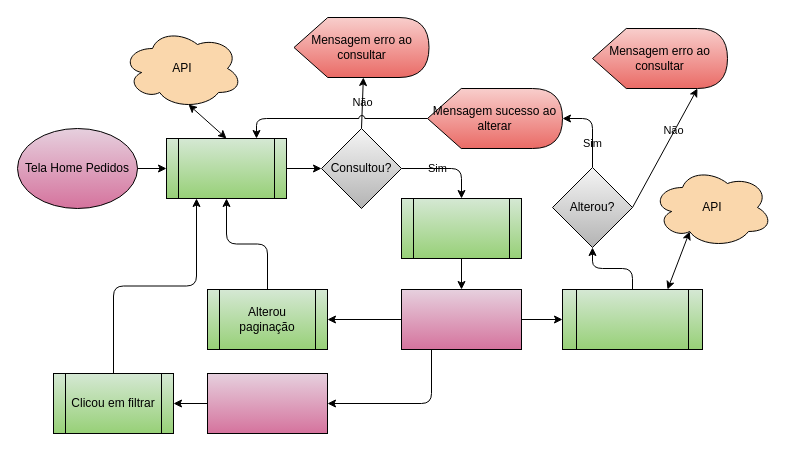
Image size: 790x451. Some labels were removed from this diagram. Here are the shapes that lost their labels. From the top down, the centre of each, then its label:
At point (226, 168): "Consultar pedidos".
At point (461, 228): "Tratar listagem".
At point (461, 319): "Exibir lista dos pedidos".
At point (632, 319): "Alterar status do pedido: Confirmar, Cancelar e Concluir".
At point (267, 403): "Alterou filtros".
